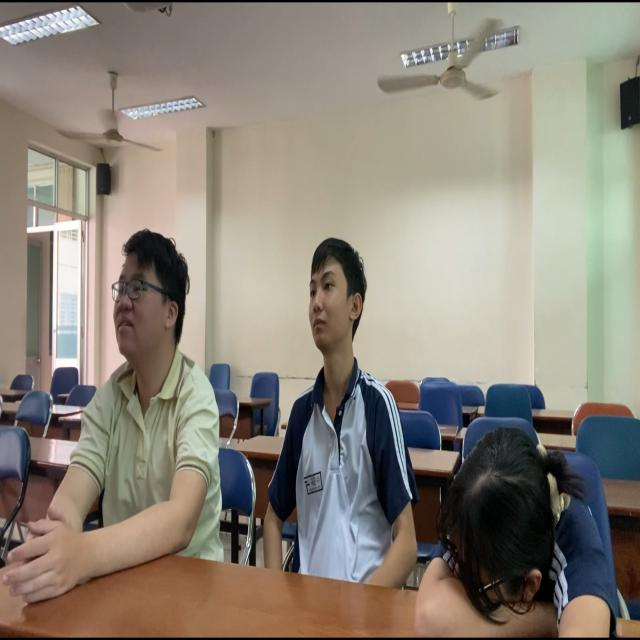sleep: (401, 413, 640, 638)
